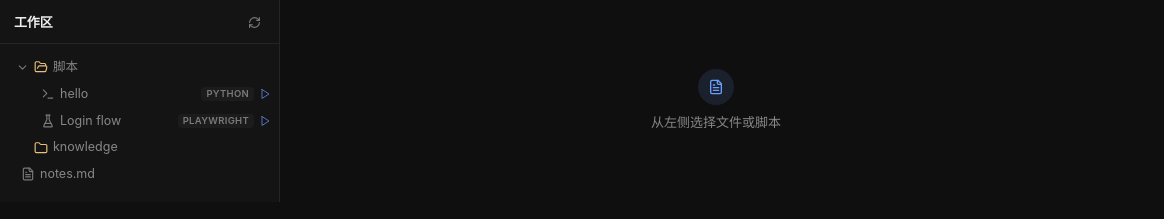
it: WorkspacePage › edits and saves a file back via PUT
Click the element with class "file-tree-row" showing "notes.md". click: click(58, 174)
box: [21, 166, 95, 181]
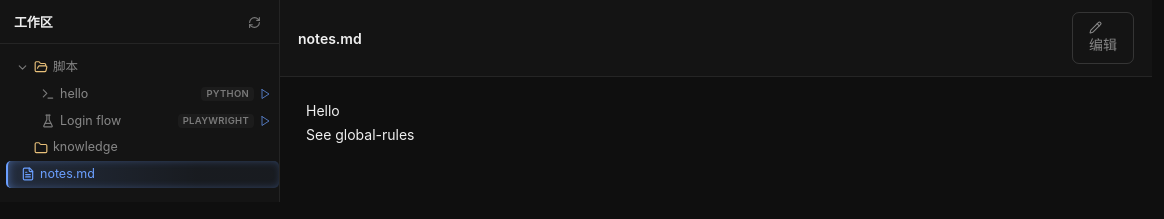
Click the button with class "btn-ghost". click: click(1103, 38)
box: [1072, 12, 1134, 64]
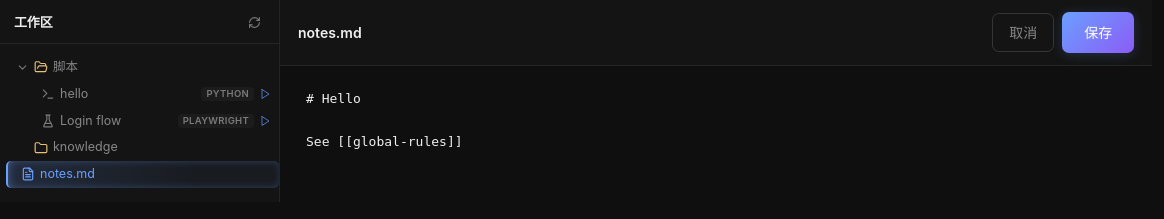
Replace the text in the text box with class "workspace-editor-textarea" with "# Edited". click: (716, 134)
box: [280, 66, 1152, 202]
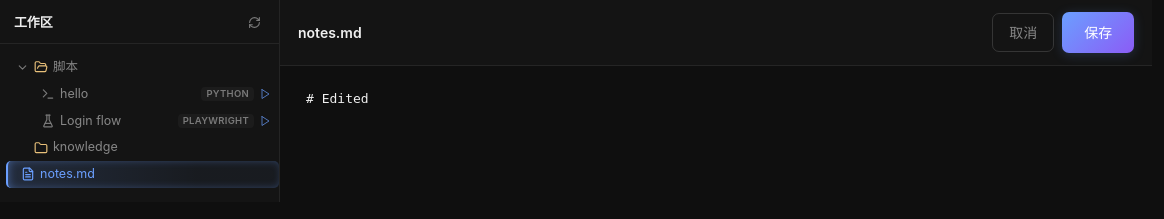
Click the button "保存". click: click(1098, 32)
box: [1062, 12, 1134, 53]
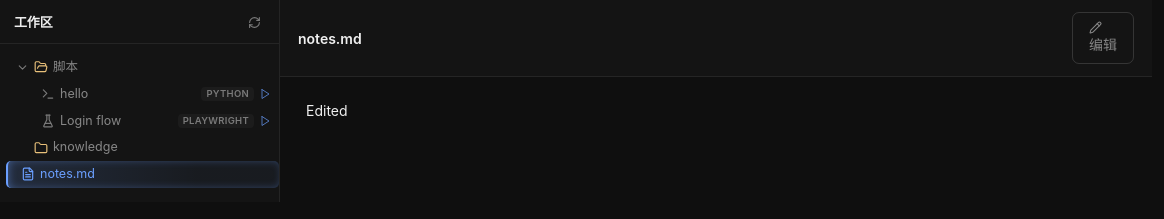
Check: the element with class "workspace-md-body" reads "Edited", box [306, 102, 348, 119]
